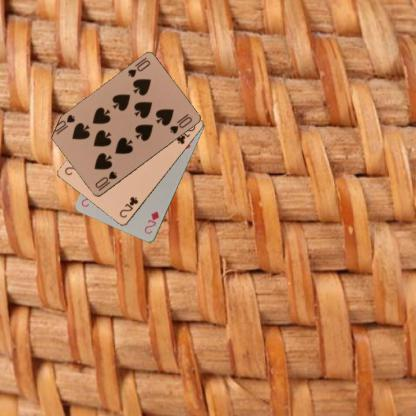10s: (92, 168, 118, 192), (125, 58, 151, 80)
2c: (117, 194, 139, 219)
2d: (142, 208, 160, 236)
